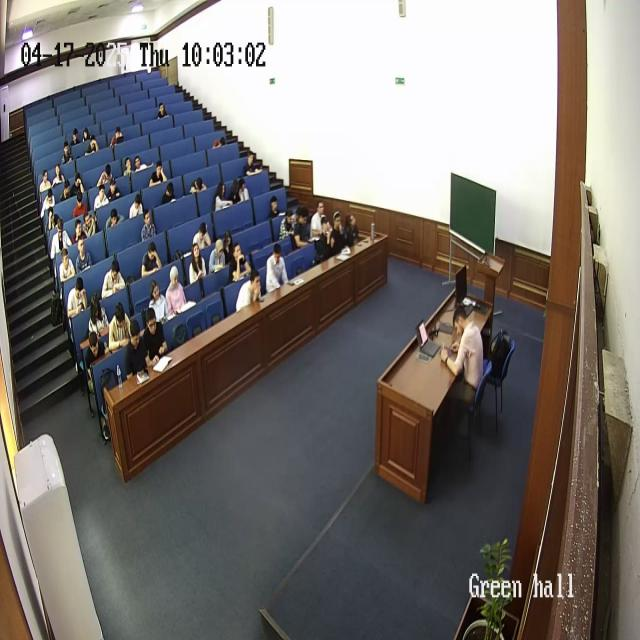person: (441, 303, 485, 413), (125, 316, 152, 378), (84, 332, 108, 401), (142, 307, 169, 367), (67, 276, 89, 341), (165, 264, 191, 318), (235, 268, 263, 312), (108, 303, 132, 353), (265, 242, 289, 292), (50, 216, 70, 272), (87, 292, 109, 341), (316, 216, 340, 260), (102, 257, 126, 300), (146, 281, 168, 327), (228, 242, 252, 282), (290, 207, 312, 248), (187, 240, 207, 284), (74, 236, 94, 280), (58, 243, 77, 289), (141, 241, 162, 279), (208, 236, 227, 274), (331, 212, 349, 252), (279, 209, 297, 248), (140, 207, 158, 244), (42, 193, 58, 234), (310, 200, 326, 240), (192, 222, 212, 252), (213, 180, 231, 213), (345, 213, 361, 248), (232, 175, 250, 205), (149, 158, 167, 187), (243, 150, 261, 177), (130, 191, 146, 221), (94, 184, 110, 213), (73, 196, 89, 223), (105, 207, 122, 232), (60, 178, 76, 204), (86, 130, 99, 162), (121, 156, 137, 180), (96, 164, 112, 188), (39, 171, 53, 198), (162, 180, 176, 206), (51, 163, 65, 189), (68, 120, 81, 147), (189, 177, 207, 196), (74, 172, 87, 198), (110, 124, 124, 148), (269, 196, 283, 218), (61, 140, 74, 163), (211, 134, 225, 150), (156, 101, 168, 119), (82, 122, 90, 145)
